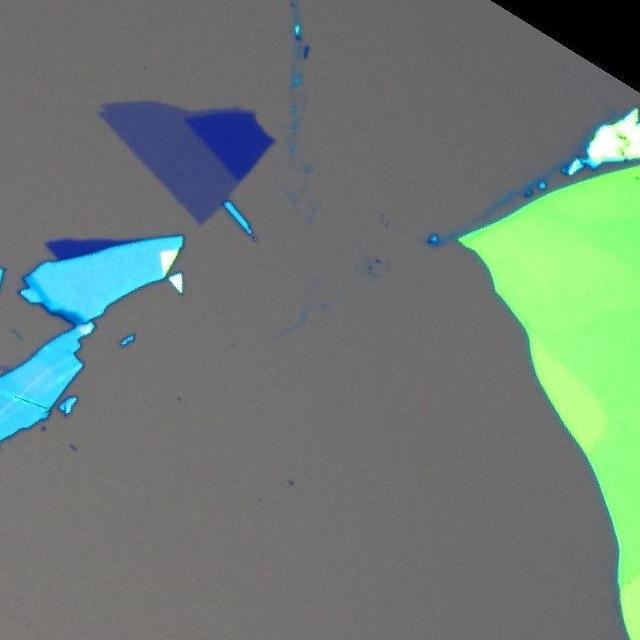monolayer-eWW4: (104, 92, 238, 226)
